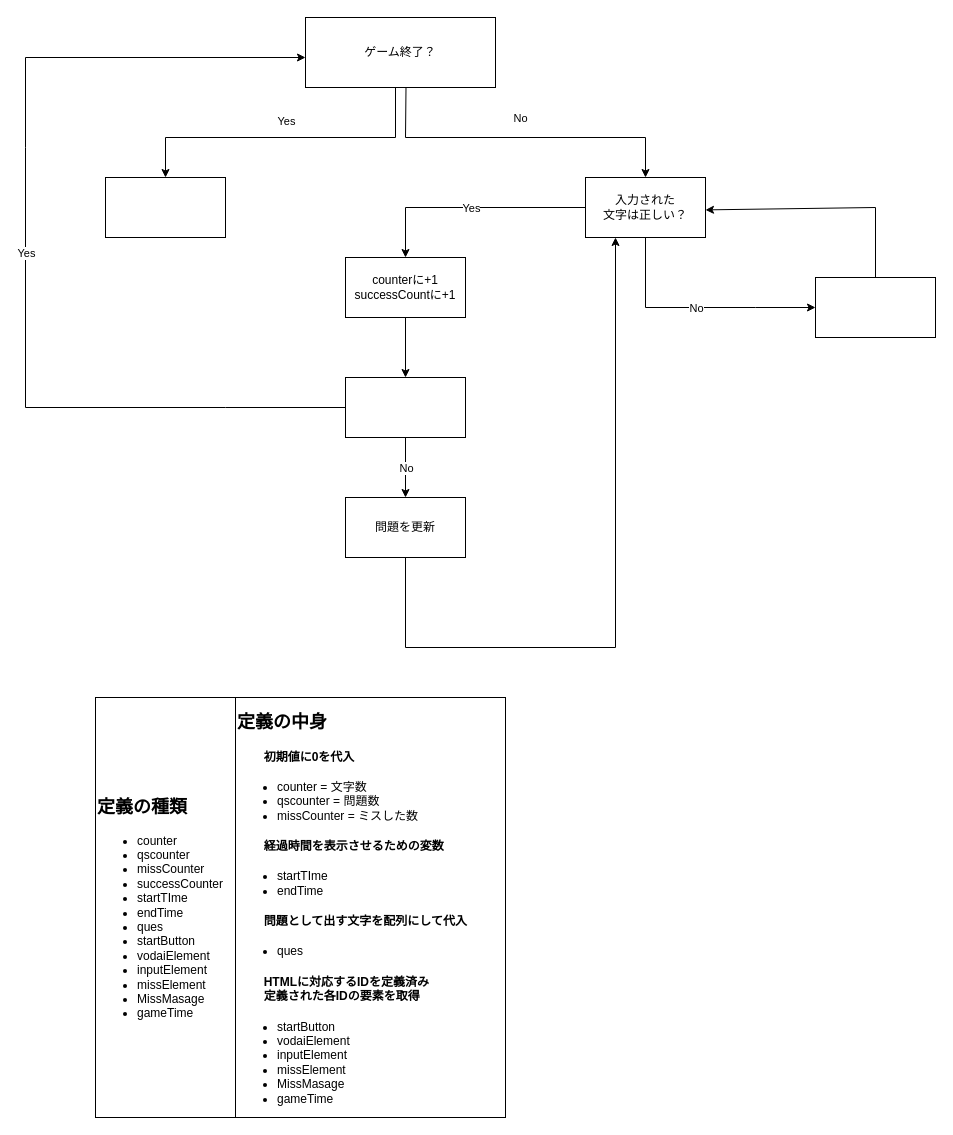
Some shapes in this 953 by 1135 pixel diagram are drawn without their labels. The shapes that lost their labels are listed below. From the top down, each one's centre as x and y in pixels, then its label:
At point (165, 207): "情報を出力".
At point (875, 307): "情報の出力 missCountに+1".
At point (405, 407): "現在の問題番号がすべての問題数を超えた？".
